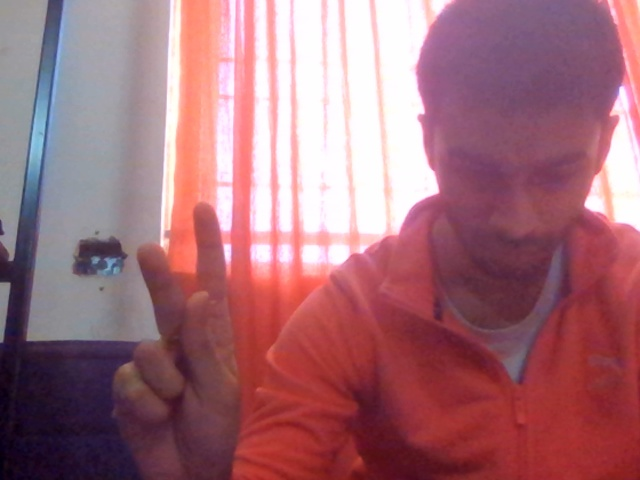K: (81, 163, 273, 480)
